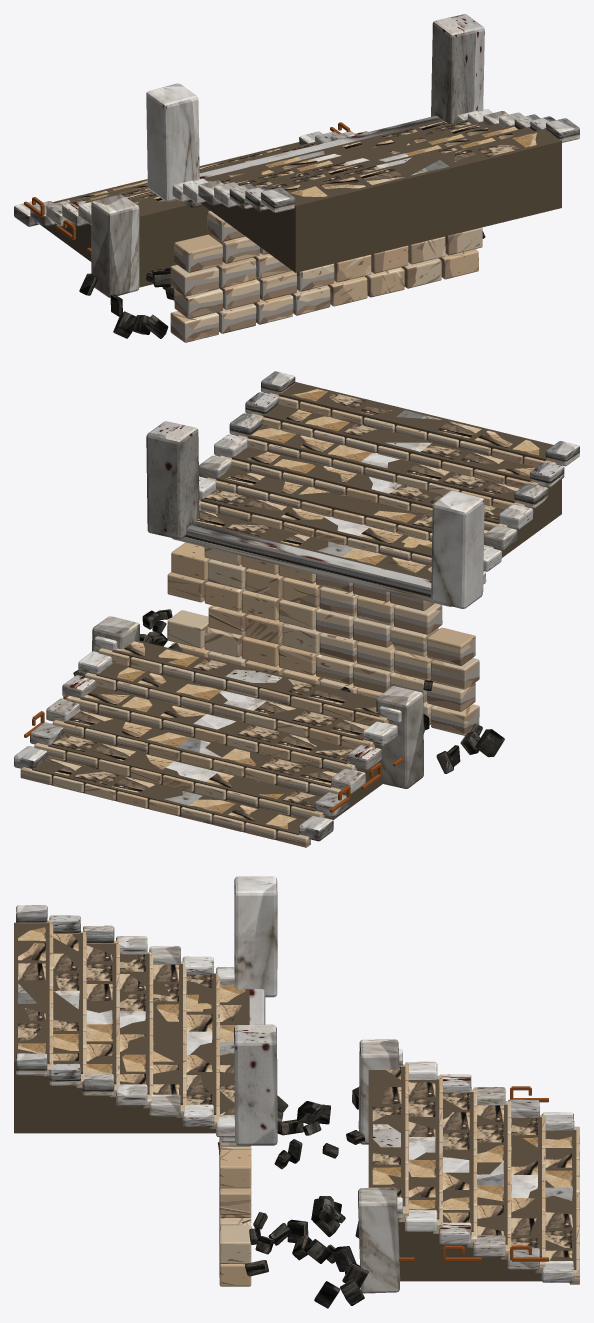
Rendered from stairs_broken_mantle_LOD0.glb.
3 views of the same model, one above another, from view 1: azimuth 30°, elevation 25°; view 2: azimuth 150°, elevation 25°; view 3: azimuth 270°, elevation 25° (orthographic). The views are drawn at different scales.
Parts seen in each view (by area): view 1: highMortarCore.006, FracturedUpperPost, FracturedUpperPost.001, FracturedLowerPost, lowMortarCore.005, highMortarCore.005, MantleGrabLip, MantleFaceAshlar.023, highMortarCore.003, highMortarCore.004, highMortarCore.002, MantleFaceAshlar.016 (+30 smaller); view 2: FracturedUpperPost, FracturedUpperPost.001, MantleGrabLip, highMortarCore.006, FracturedLowerPost, highMortarCore.005, lowMortarCore.005, lowMortarCore.003, lowMortarCore, lowMortarCore.001, lowMortarCore.004, highMortarCore.002 (+47 smaller); view 3: FracturedUpperPost.001, FracturedUpperPost, highMortarCore.006, FracturedLowerPost.001, highMortarCore.005, lowMortarCore.004, lowMortarCore.005, highMortarCore.002, lowMortarCore.003, highMortarCore.003, highMortarCore.004, lowMortarCore.002 (+32 smaller).
Boxes of the visible parts, bbox=[...] form: highMortarCore.006: bbox=[279, 128, 561, 272]; FracturedUpperPost: bbox=[146, 83, 199, 201]; FracturedUpperPost.001: bbox=[431, 14, 484, 123]; FracturedLowerPost: bbox=[91, 194, 139, 297]; lowMortarCore.005: bbox=[132, 195, 211, 287]; highMortarCore.005: bbox=[264, 127, 533, 260]; MantleGrabLip: bbox=[182, 115, 442, 208]; MantleFaceAshlar.023: bbox=[174, 234, 222, 272]; highMortarCore.003: bbox=[232, 123, 502, 237]; highMortarCore.004: bbox=[247, 125, 517, 249]; highMortarCore.002: bbox=[216, 121, 486, 226]; MantleFaceAshlar.016: bbox=[170, 265, 218, 296]; FracturedUpperPost: bbox=[431, 490, 484, 608]; FracturedUpperPost.001: bbox=[146, 421, 199, 539]; MantleGrabLip: bbox=[172, 522, 451, 606]; highMortarCore.006: bbox=[279, 382, 561, 525]; FracturedLowerPost: bbox=[376, 686, 423, 788]; highMortarCore.005: bbox=[263, 405, 546, 536]; lowMortarCore.005: bbox=[112, 640, 382, 786]; lowMortarCore.003: bbox=[80, 686, 362, 809]; lowMortarCore: bbox=[32, 757, 305, 840]; lowMortarCore.001: bbox=[48, 734, 331, 819]; lowMortarCore.004: bbox=[96, 663, 378, 798]; highMortarCore.002: bbox=[216, 468, 497, 549]; FracturedUpperPost.001: bbox=[234, 1024, 277, 1145]; FracturedUpperPost: bbox=[234, 876, 277, 997]; highMortarCore.006: bbox=[14, 922, 49, 1133]; FracturedLowerPost.001: bbox=[358, 1187, 400, 1293]; highMortarCore.005: bbox=[47, 933, 82, 1133]; lowMortarCore.004: bbox=[403, 1079, 439, 1281]; lowMortarCore.005: bbox=[368, 1066, 405, 1281]; highMortarCore.002: bbox=[147, 964, 182, 1133]; lowMortarCore.003: bbox=[437, 1092, 473, 1281]; highMortarCore.003: bbox=[114, 953, 149, 1133]; highMortarCore.004: bbox=[81, 943, 116, 1133]; lowMortarCore.002: bbox=[471, 1104, 507, 1281].
Size of the model in its own units: 5.13 by 3.07 by 6.07.
8 materials, 4 textured.
